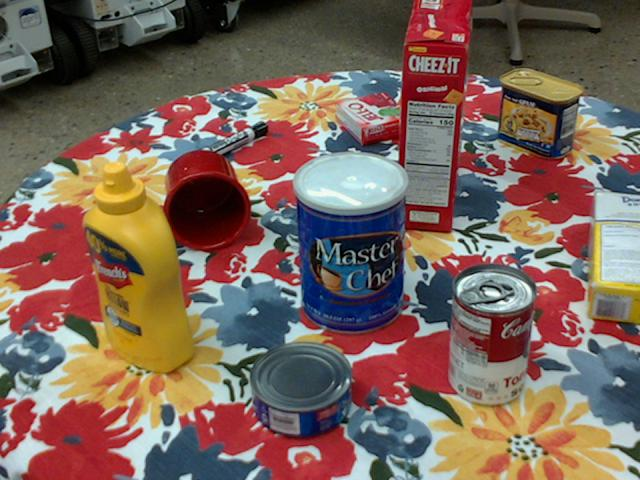cracker_box: (396, 0, 472, 231)
gelatin_box: (333, 92, 411, 145)
large_marker: (191, 119, 266, 165)
master_chef_can: (292, 151, 406, 335)
mug: (147, 149, 251, 252)
mustard_bottle: (81, 162, 195, 371)
potted_meat_can: (498, 67, 583, 157)
sugar_box: (587, 191, 639, 323)
tomato_soup_can: (448, 262, 535, 405)
tuna_fish_can: (245, 341, 348, 438)
